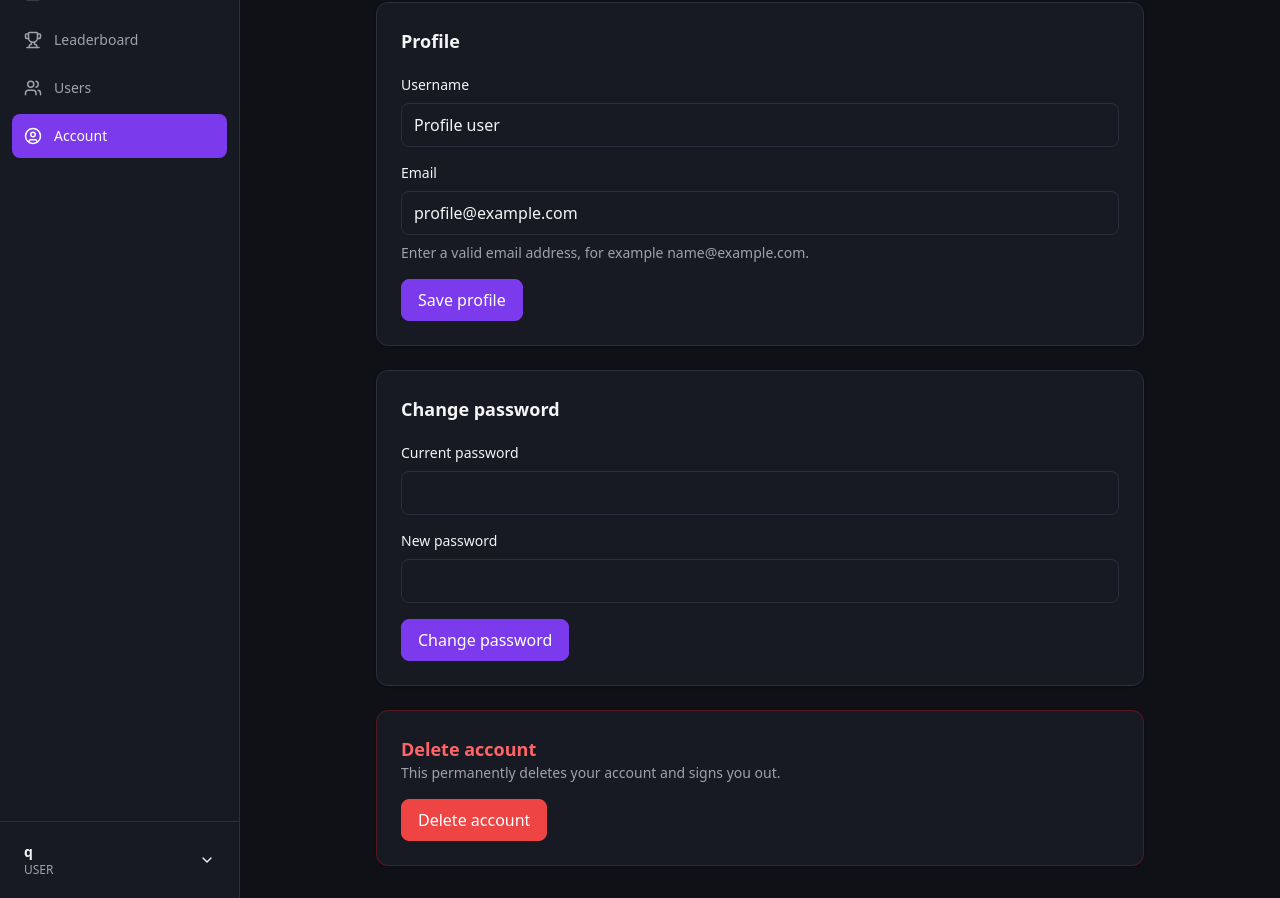
Phase 5 application routes and layout › cleans auth and navigates to login after logout
This screenshot has width=1280, height=898.
(page scrolled)
Click the button "q USER" at point(120, 860), box x1=12 y1=834 x2=227 y2=886
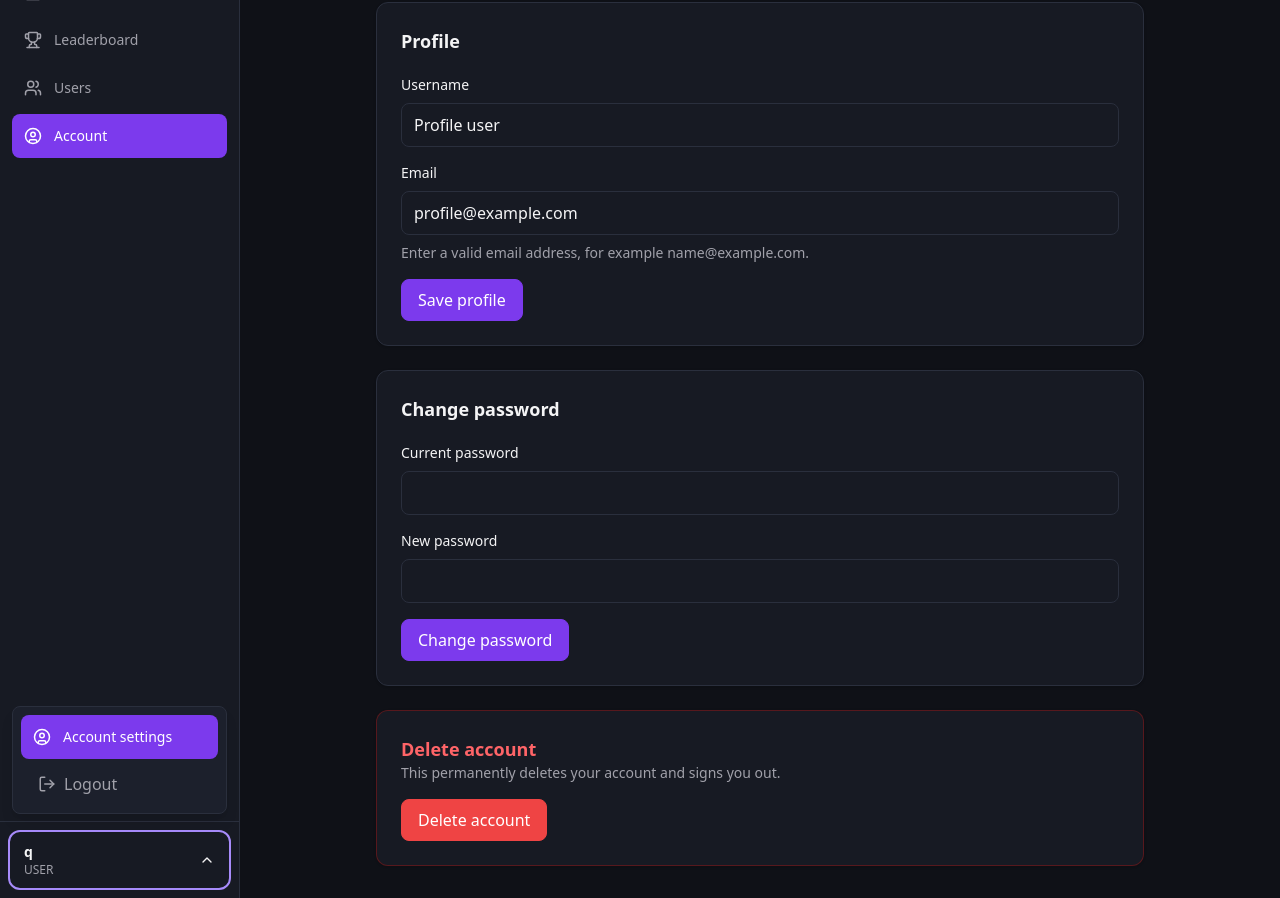
Click the button "Logout" at point(120, 784), box x1=21 y1=763 x2=218 y2=805
(page scrolled)
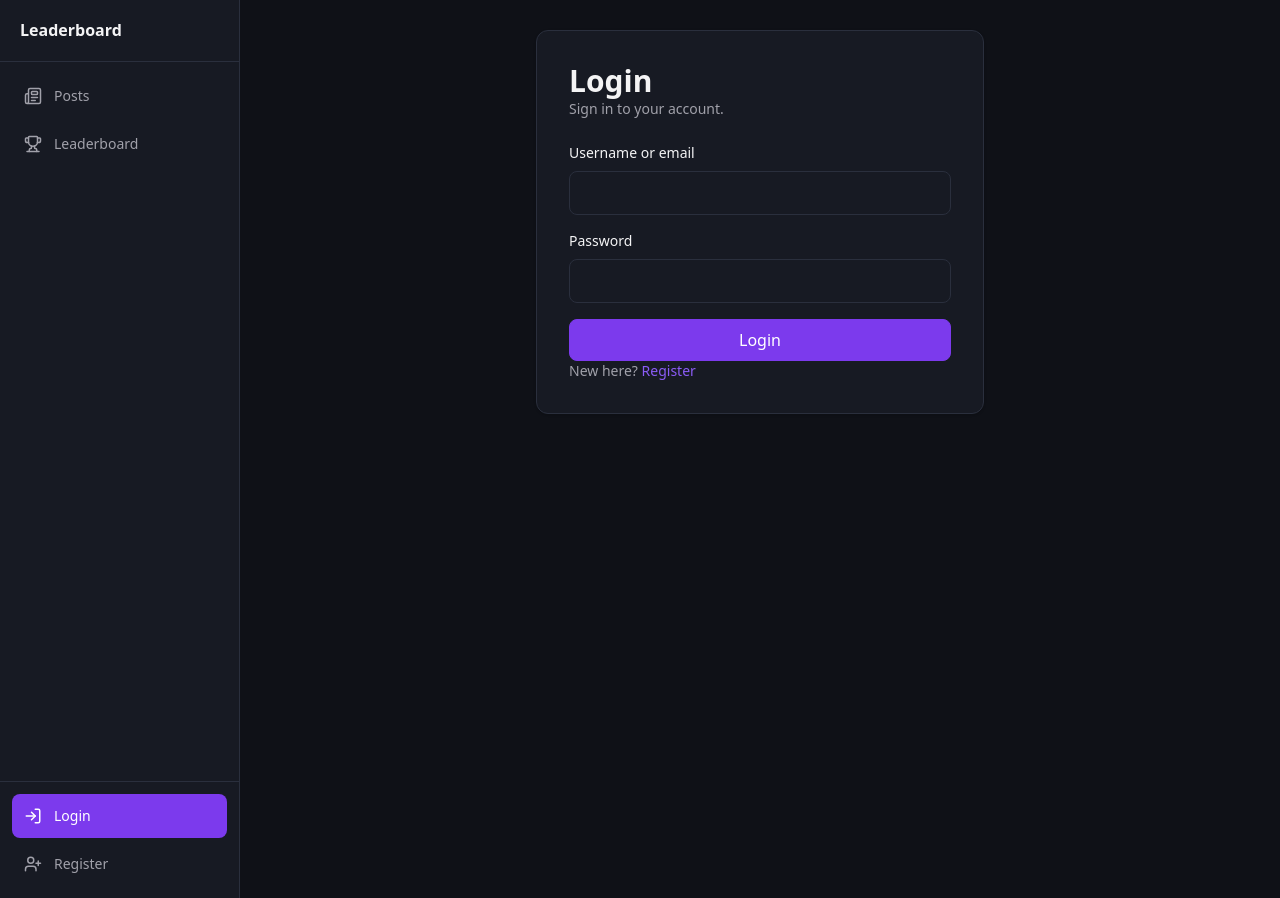
expect the heading "Login" is shown: met, box x1=569 y1=60 x2=652 y2=101
